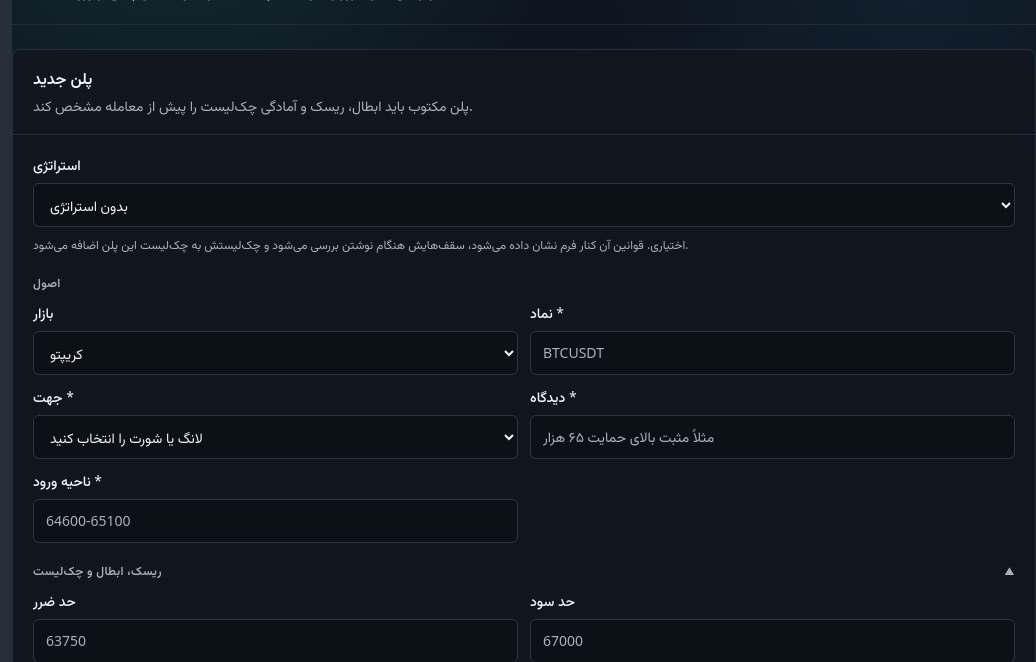
Test: the Persian page calls a plan پلن › the CONFLICT message names the plan with the glossary word
Type "ETHUSDT" into the field labelled "نماد *" at (772, 353), box [530,331,1015,375]
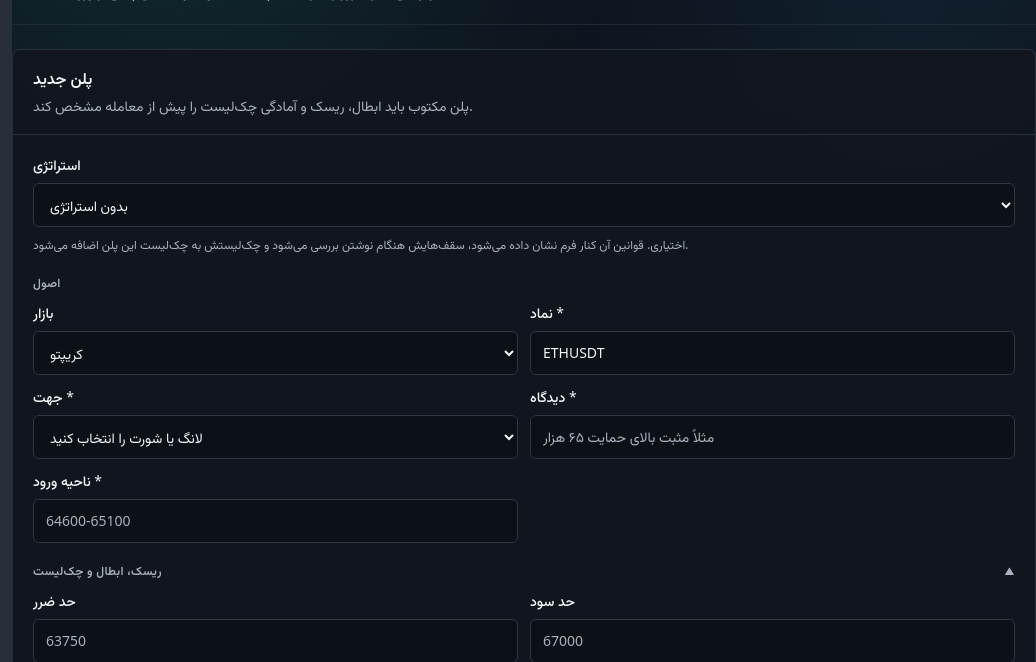
Select "لانگ" in the dropdown labelled "جهت *" at (276, 437), box [33,415,518,459]
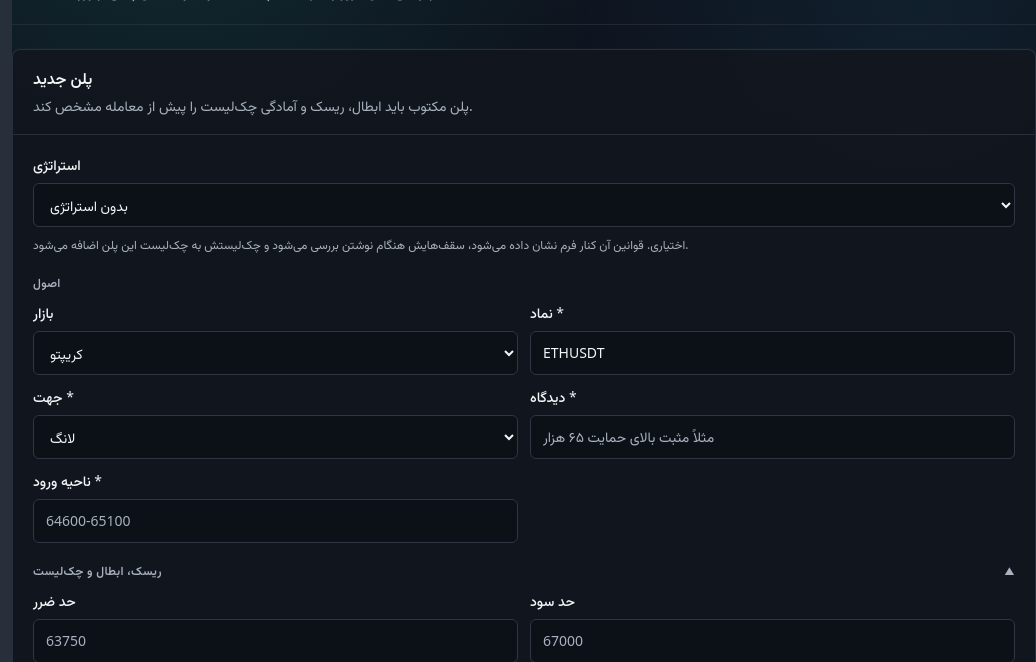
Type "Constructive" into the field labelled "دیدگاه *" at (772, 437), box [530,415,1015,459]
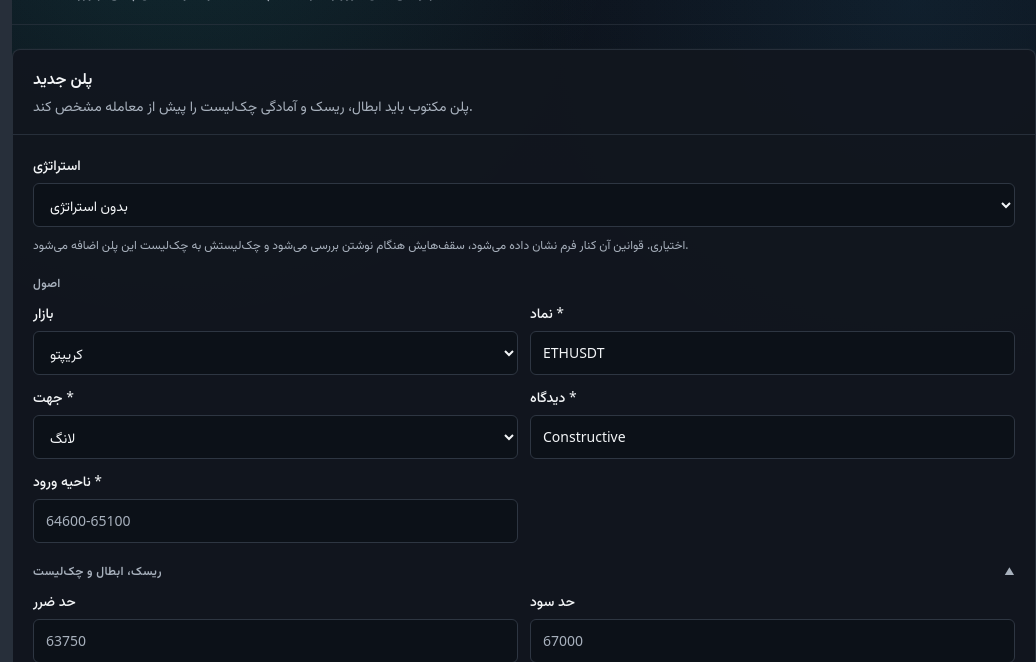
Type "3000" into the field labelled "ناحیه ورود *" at (276, 521), box [33,499,518,543]
(page scrolled)
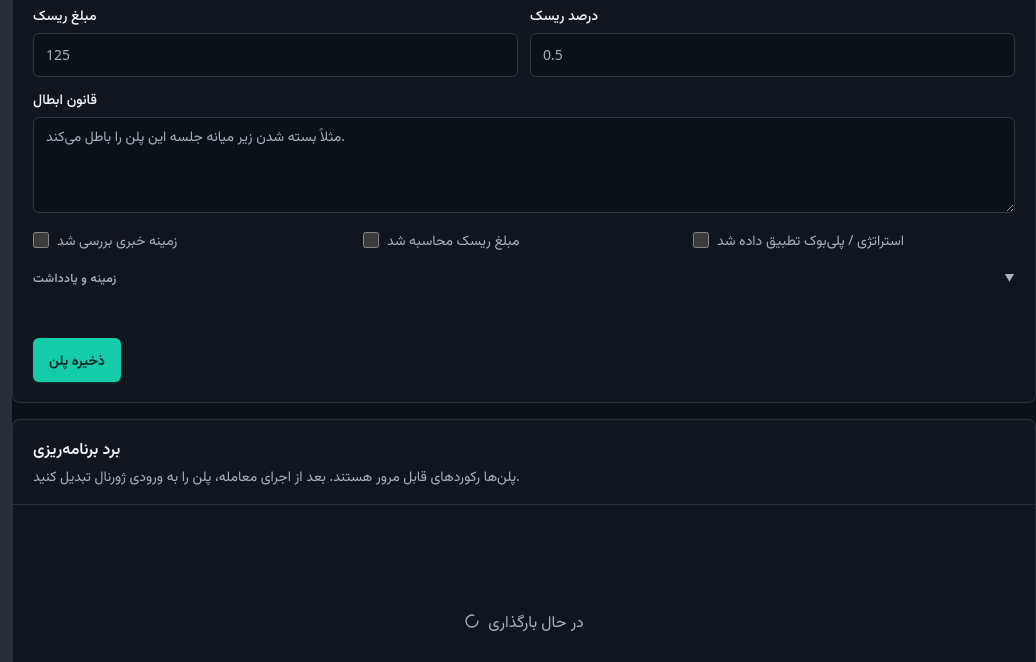
Click the button "ذخیره پلن" at (77, 360), box [33,338,121,382]
(page scrolled)
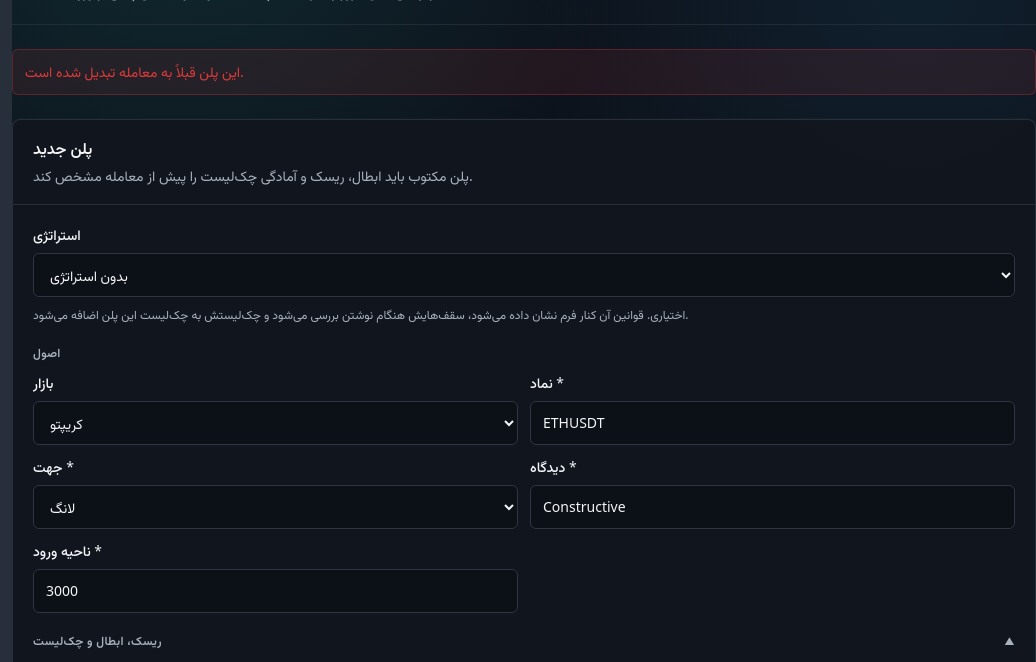
Result: the message shows "این پلن" at [25,62,244,81]
